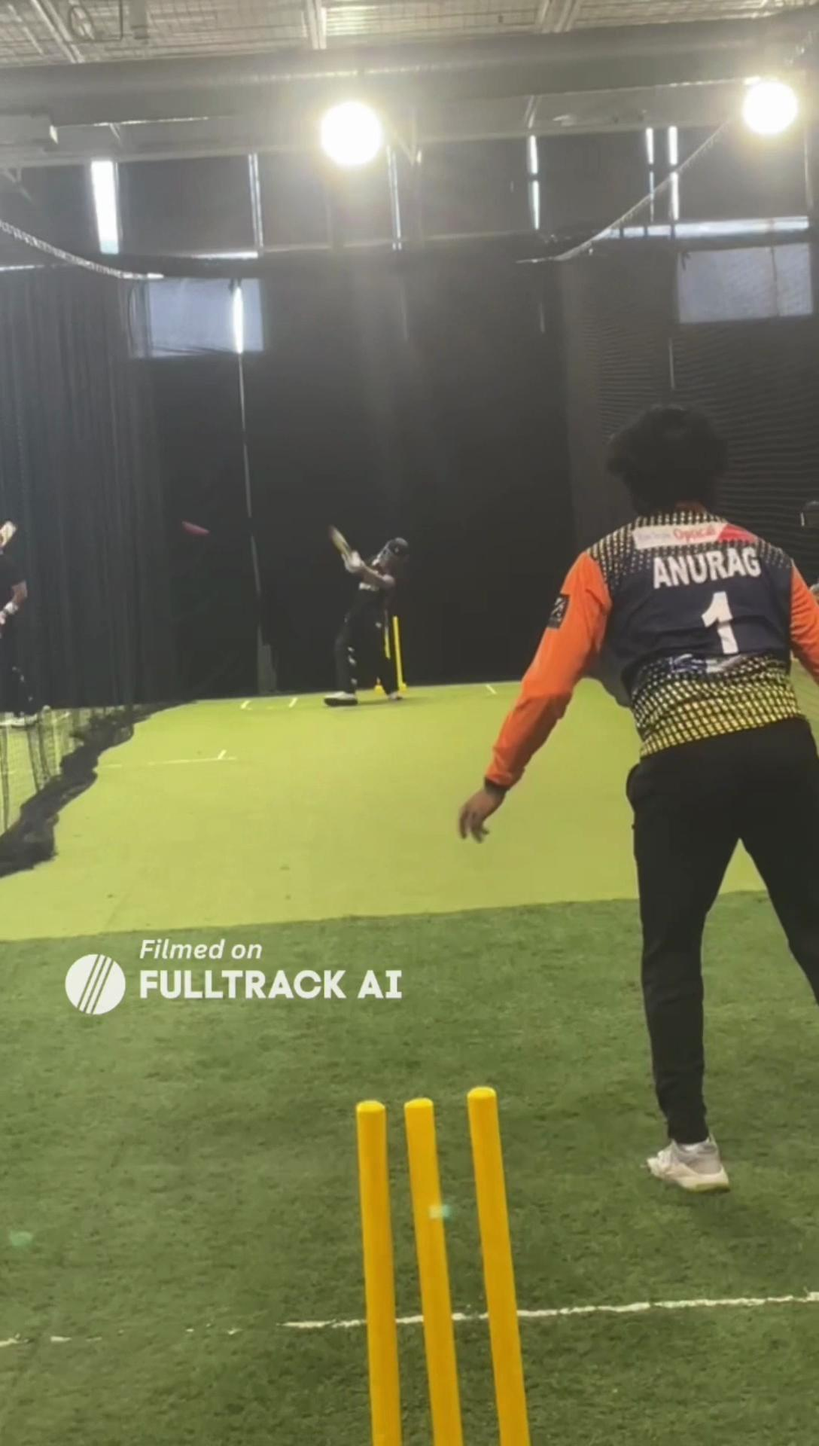ball: (183, 521, 207, 540)
